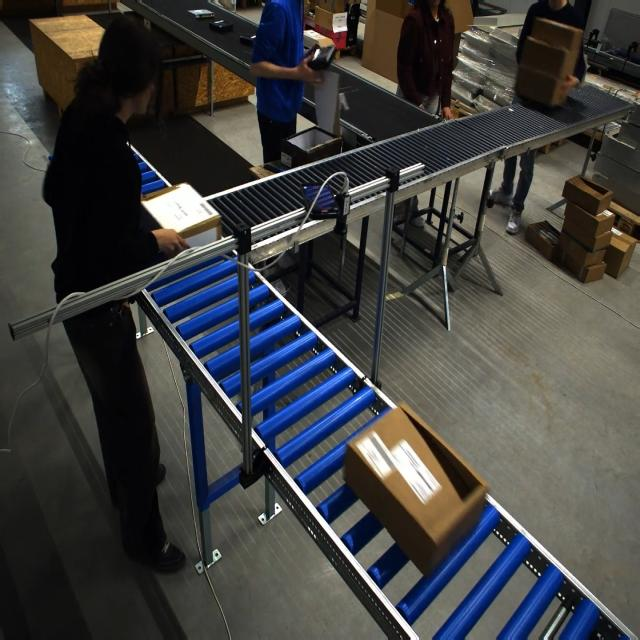box: (349, 409, 485, 569), (141, 182, 220, 249), (280, 125, 338, 170)
product: (308, 44, 336, 70), (209, 20, 234, 33), (187, 9, 215, 18), (239, 33, 256, 46)
